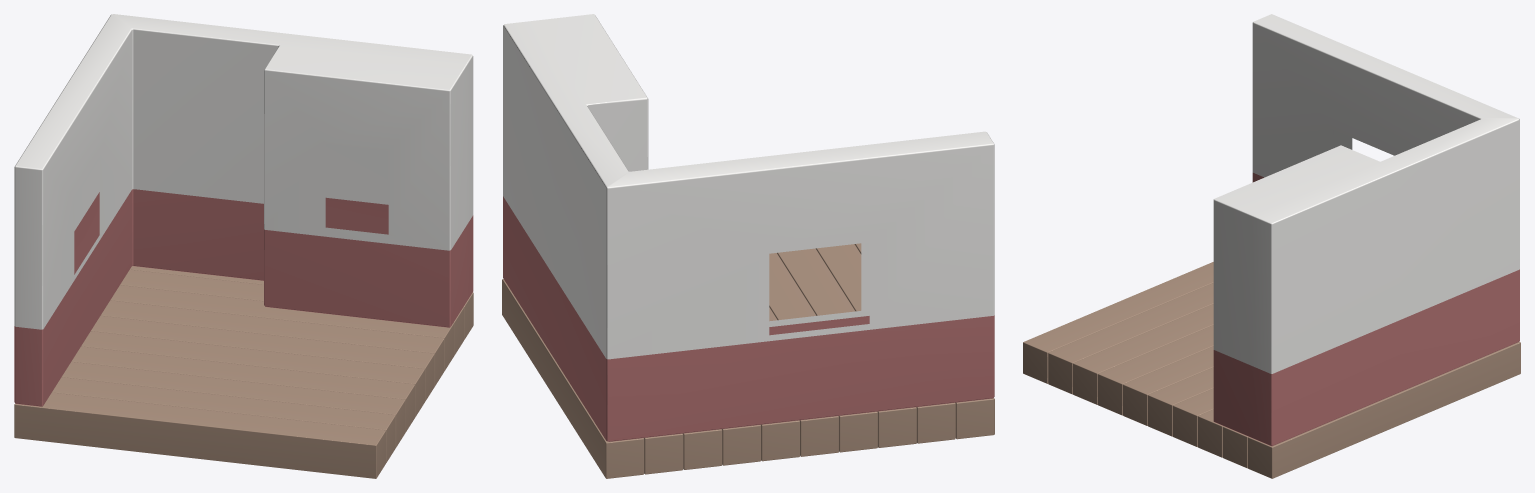
File: defaultRoom.glb
The picture shows the model from 3 angles, left to right: view 1: azimuth 30°, elevation 25°; view 2: azimuth 150°, elevation 25°; view 3: azimuth 270°, elevation 25°; orthographic projection. The views are drawn at different scales.
Parts seen in each view (by area): view 1: Room_13_Wall_1, Room_13_Floor_1; view 2: Room_13_Wall_1, Room_13_Floor_1; view 3: Room_13_Wall_1, Room_13_Floor_1.
Boxes of the visible parts, bbox=[...] form: Room_13_Wall_1: bbox=[14, 14, 473, 406]; Room_13_Floor_1: bbox=[14, 266, 473, 478]; Room_13_Wall_1: bbox=[503, 14, 994, 441]; Room_13_Floor_1: bbox=[502, 243, 994, 478]; Room_13_Wall_1: bbox=[1213, 14, 1519, 446]; Room_13_Floor_1: bbox=[1023, 262, 1520, 478].
Size of the model in its own units: 7.06 by 4 by 7.06.
Materials: 1 (1 with a texture image).
